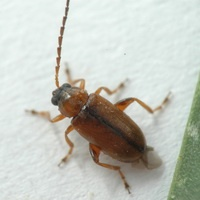insect: (25, 97, 174, 199), (60, 0, 173, 104), (28, 41, 54, 109)
